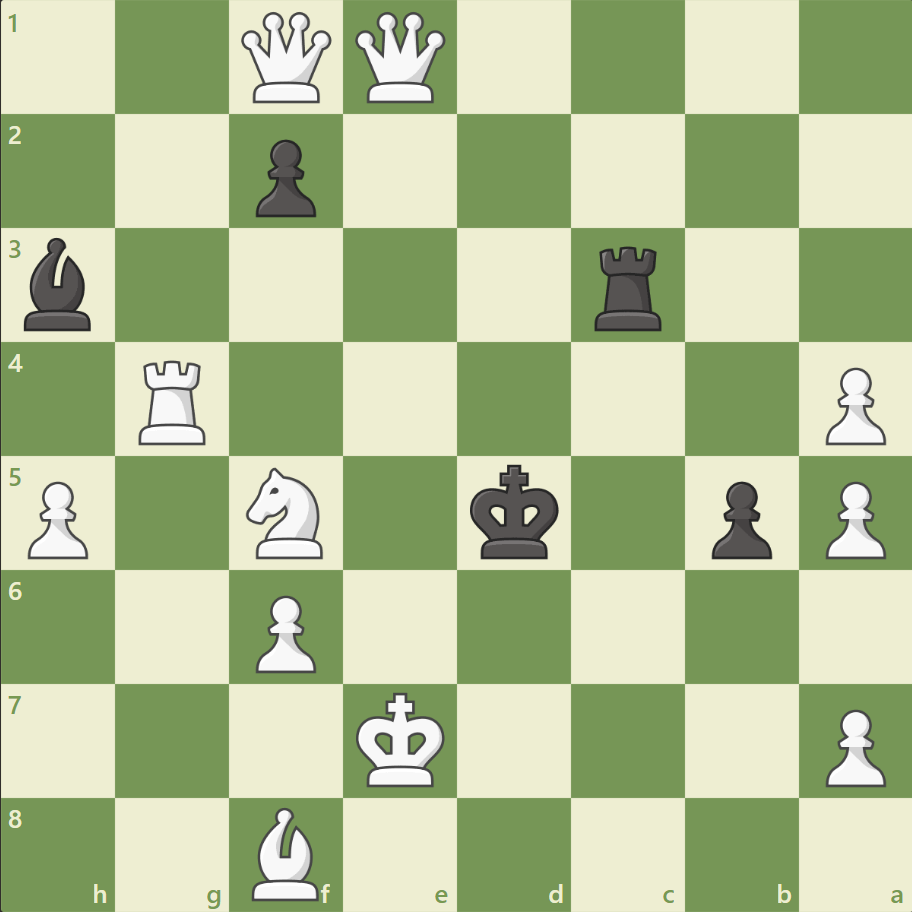B: (244, 801, 328, 904)
K: (351, 685, 451, 793)
N: (238, 461, 335, 564)
P: (247, 586, 322, 677), (20, 473, 95, 564), (815, 700, 889, 791), (815, 473, 889, 564), (815, 359, 889, 450)
Q: (351, 9, 450, 108), (237, 9, 336, 108)
R: (133, 352, 215, 449)
b: (17, 233, 101, 336)
k: (465, 458, 565, 566)
p: (701, 473, 776, 564), (247, 132, 322, 223)
r: (587, 239, 670, 336)
